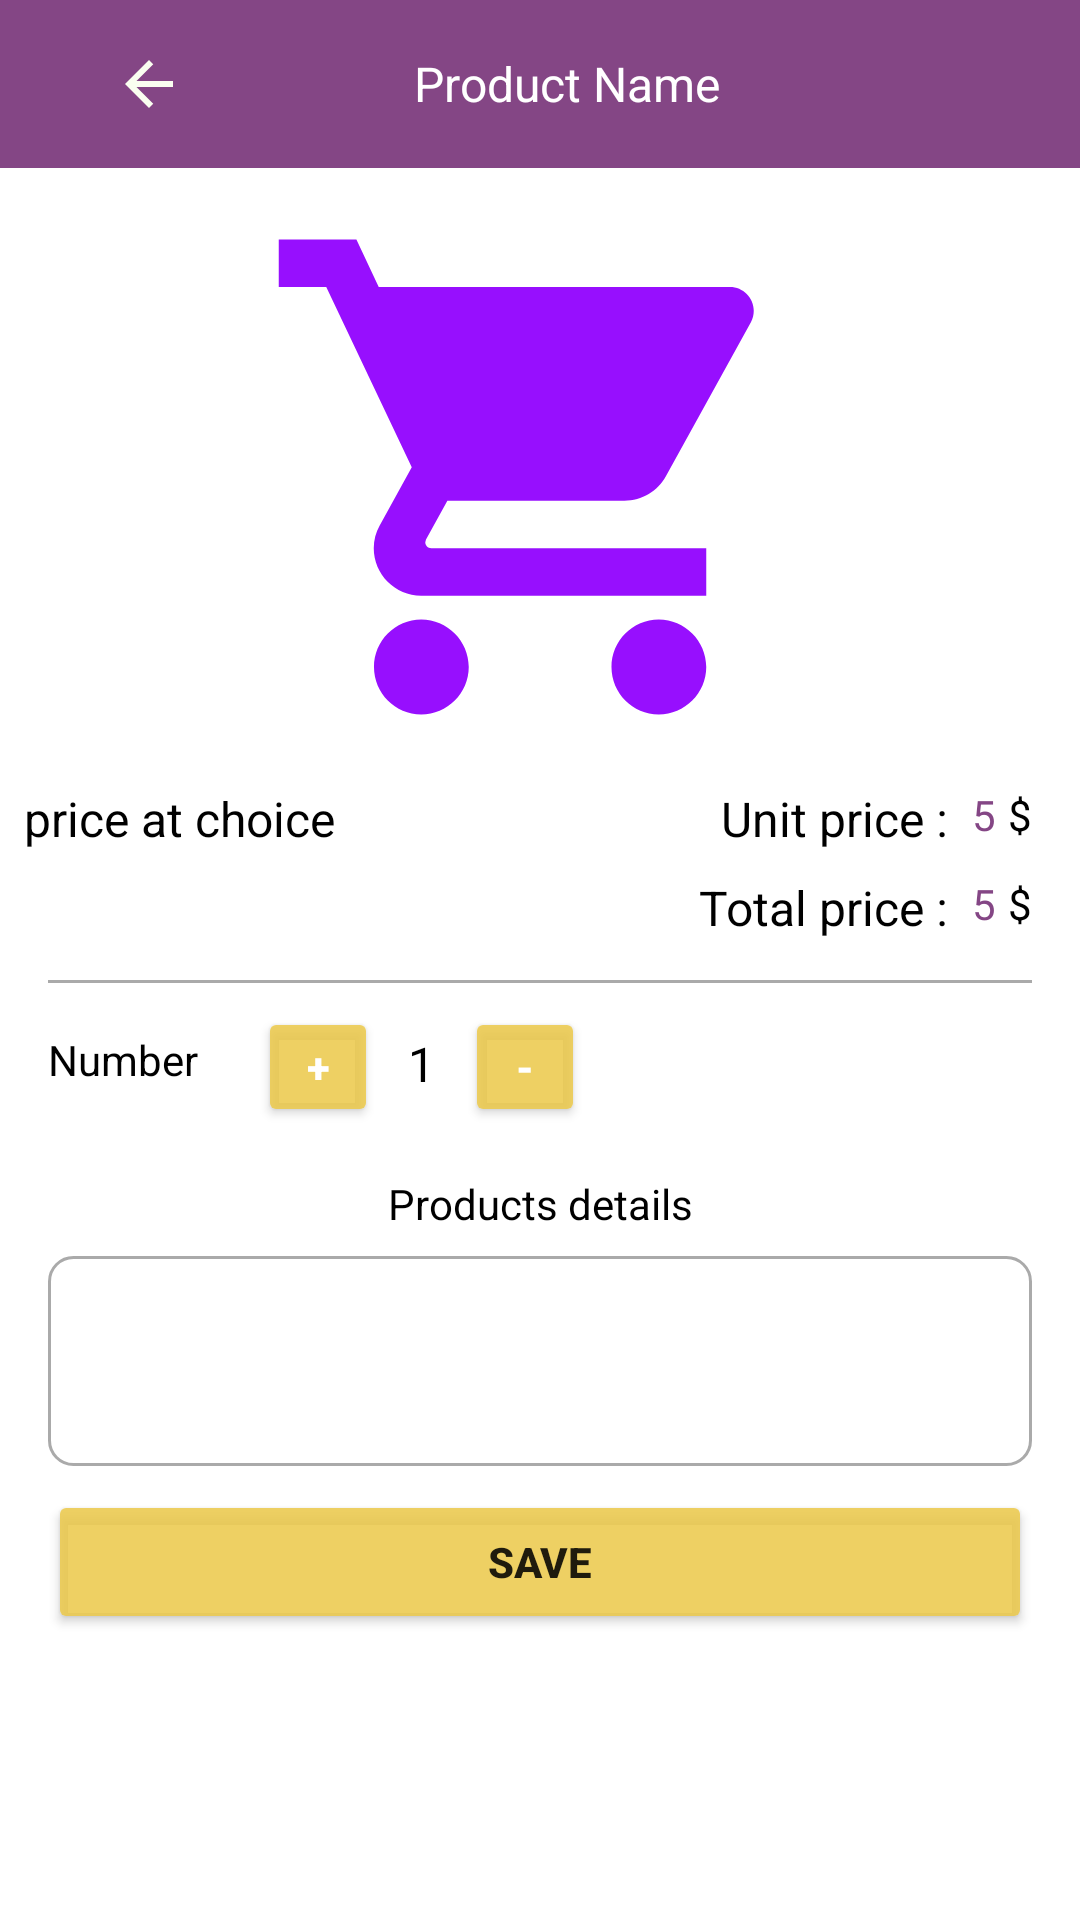

Screen size 1080w x 1920h. Icon name, then its center in pixels as (x,y):
arrow back: (149,84)
